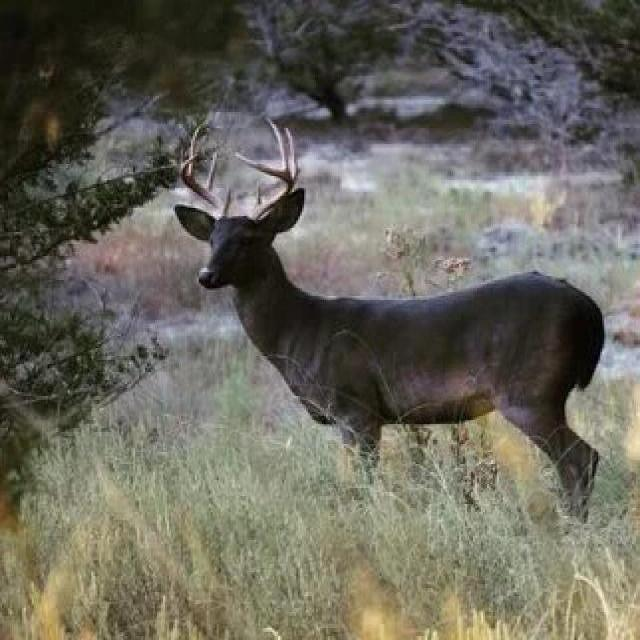deer: (151, 170, 640, 554)
